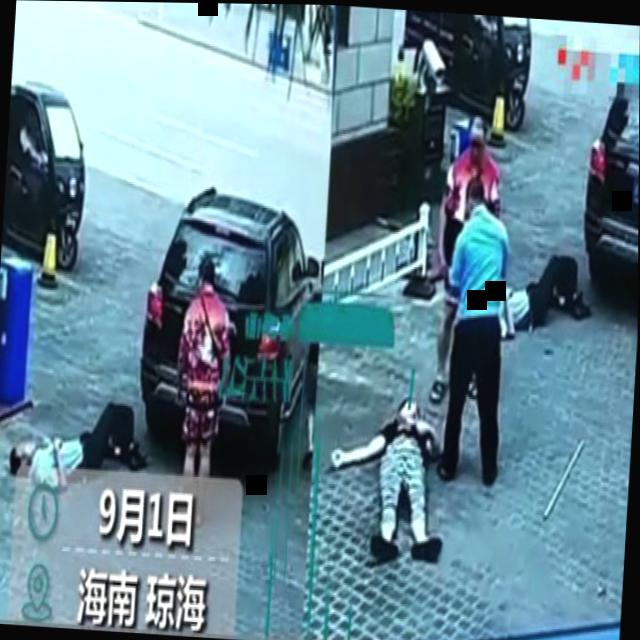Fall-Detected: (491, 234, 596, 345)
